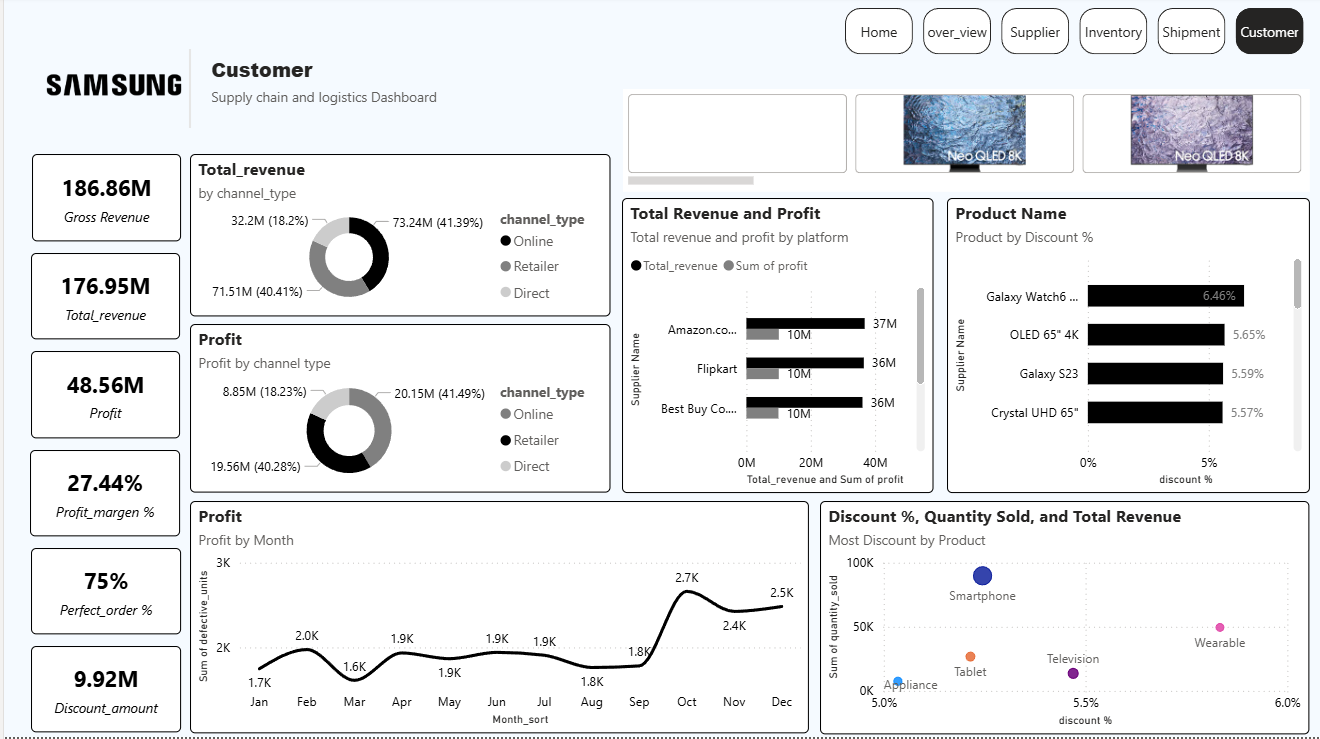

Layout of this report page (visuals, bound fields, positions):
{"tool":"powerbi","page":{"name":"Customer","canvas":[1280,720],"ordinal":5},"visuals":[{"type":"image","box":[0,0,214,171.2],"z":0},{"type":"shape","box":[73.9,50.6,214,76.8],"z":1000},{"type":"textbox","title":"Customer","box":[196.5,56.4,250,58.4],"z":2000},{"type":"card","fields":{"Values":["measure_table.Total_revenue"]},"box":[26,249.2,145,84],"z":3000},{"type":"card","fields":{"Values":["measure_table.Profit"]},"box":[26,344.5,145,84.8],"z":4000},{"type":"card","fields":{"Values":["measure_table.Profit_margen %"]},"box":[25,440.6,145.9,84],"z":5000},{"type":"card","fields":{"Values":["measure_table.Perfect_order %"]},"box":[26,535.9,145.9,84],"z":6000},{"type":"card","fields":{"Values":["Sum(Sales.discount_amount)"]},"box":[26,631.1,145.9,84],"z":7000},{"type":"card","title":"Gross Profit ","fields":{"Values":["Sum(Sales.gross_revenue)"]},"box":[27,152.9,145,85],"z":8000},{"type":"clusteredBarChart","title":"Total Revenue and Profit ","fields":{"Y":["measure_table.Total_revenue","Sum(Sales.profit)"],"Category":["Customer.customer_name"]},"box":[601,195.3,302.5,287.4],"z":9000},{"type":"donutChart","fields":{"Y":["Total_unit_cost.Total_revenue"],"Category":["Customer.channel_type"]},"box":[180.9,152.7,409.5,157.6],"z":10000},{"type":"donutChart","title":"Profit","fields":{"Y":["Sum(Sales.profit)"],"Category":["Customer.channel_type"]},"box":[180.9,318.1,409.5,164.4],"z":11000},{"type":"clusteredBarChart","title":"Product Name ","fields":{"Y":["Total_unit_cost.discount %"],"Category":["Product.product_name"]},"box":[916.7,195.3,353.1,287.4],"z":12000},{"type":"pageNavigator","box":[818,10.7,451.3,45.7],"z":13000},{"type":"lineChart","title":"Profit","fields":{"Y":["Sum(Production.defective_units)"],"Category":["Data.Month_sort"]},"box":[181.1,489.7,602.1,225.6],"z":14000},{"type":"scatterChart","title":"Discount %, Quantity Sold, and Total Revenue","fields":{"X":["Total_unit_cost.discount %"],"Y":["Sum(Sales.quantity_sold)"],"Series":["Product.category"],"Size":["Total_unit_cost.Total_revenue"]},"box":[793.3,489.7,475.6,226.7],"z":15000},{"type":"advancedSlicerVisual","fields":{"Values":["Product.product_name"]},"box":[602.1,89,667.8,100.2],"z":16000}]}

Visuals, with their boxes in screenshot pixels (x1, y1, x2, y2), scaled from the page's 1280x720 canvas onto the 1320x739 screenshot:
image: l=0, t=0, r=221, b=176
shape: l=76, t=52, r=297, b=131
"Customer" textbox: l=203, t=58, r=460, b=118
card - measure_table.Total_revenue: l=27, t=256, r=176, b=342
card - measure_table.Profit: l=27, t=354, r=176, b=441
card - measure_table.Profit_margen %: l=26, t=452, r=176, b=538
card - measure_table.Perfect_order %: l=27, t=550, r=177, b=636
card - Sum(Sales.discount_amount): l=27, t=648, r=177, b=734
"Gross Profit " card: l=28, t=157, r=177, b=244
"Total Revenue and Profit " clusteredBarChart: l=620, t=200, r=932, b=495
donutChart - Total_unit_cost.Total_revenue x Customer.channel_type: l=187, t=157, r=609, b=318
"Profit" donutChart: l=187, t=326, r=609, b=495
"Product Name " clusteredBarChart: l=945, t=200, r=1309, b=495
pageNavigator: l=844, t=11, r=1309, b=58
"Profit" lineChart: l=187, t=503, r=808, b=734
"Discount %, Quantity Sold, and Total Revenue" scatterChart: l=818, t=503, r=1309, b=735
advancedSlicerVisual - Product.product_name: l=621, t=91, r=1310, b=194
